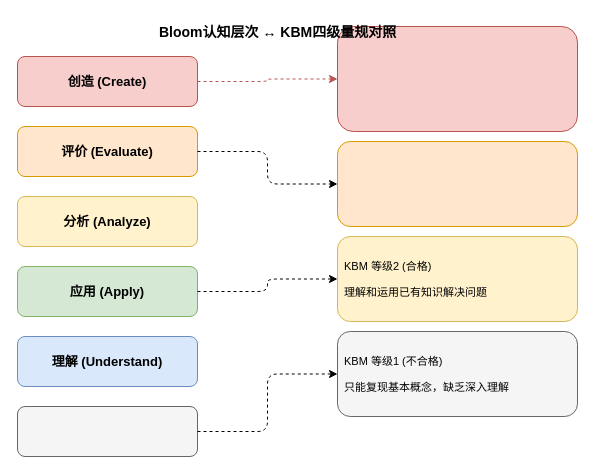
Image size: 595x474. Some labels were removed from this diagram. Here are the shapes that lost their labels. From the top down, the box of each, then its label:
(336, 26, 578, 132): KBM 等级4 (优秀) 批判性评价已有研究 提出独立研究见解
(336, 140, 578, 226): KBM 等级3 (良好) 分析问题组成要素 识别因果关系
(16, 406, 198, 456): 记忆 (Remember)
